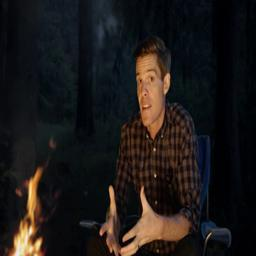fire: (7, 165, 46, 256)
